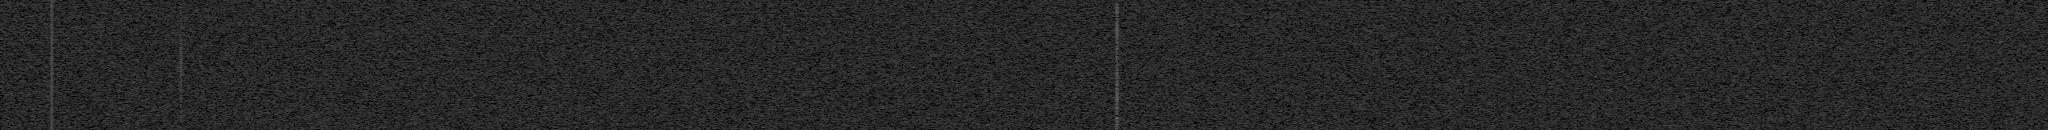wv_cw: (50, 0, 54, 130)
wv_lsb: (1114, 21, 1121, 130), (178, 36, 184, 130), (1114, 3, 1121, 19), (179, 23, 183, 35), (179, 12, 183, 22), (179, 3, 183, 10)
